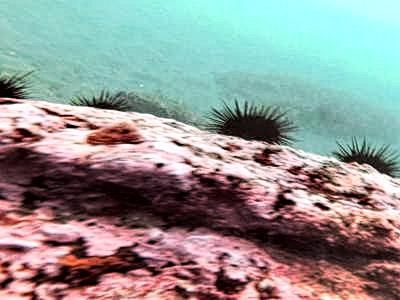urchin: (202, 97, 297, 144), (332, 135, 393, 179), (66, 88, 128, 112), (4, 69, 34, 99)
